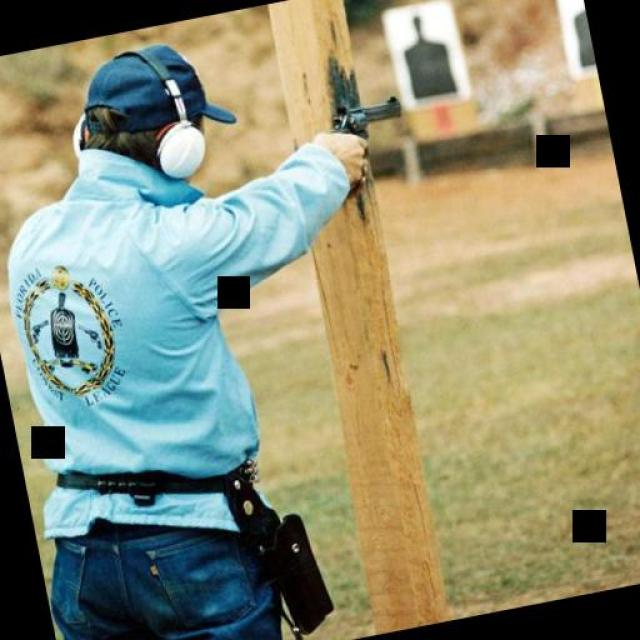gun: (320, 88, 410, 156)
